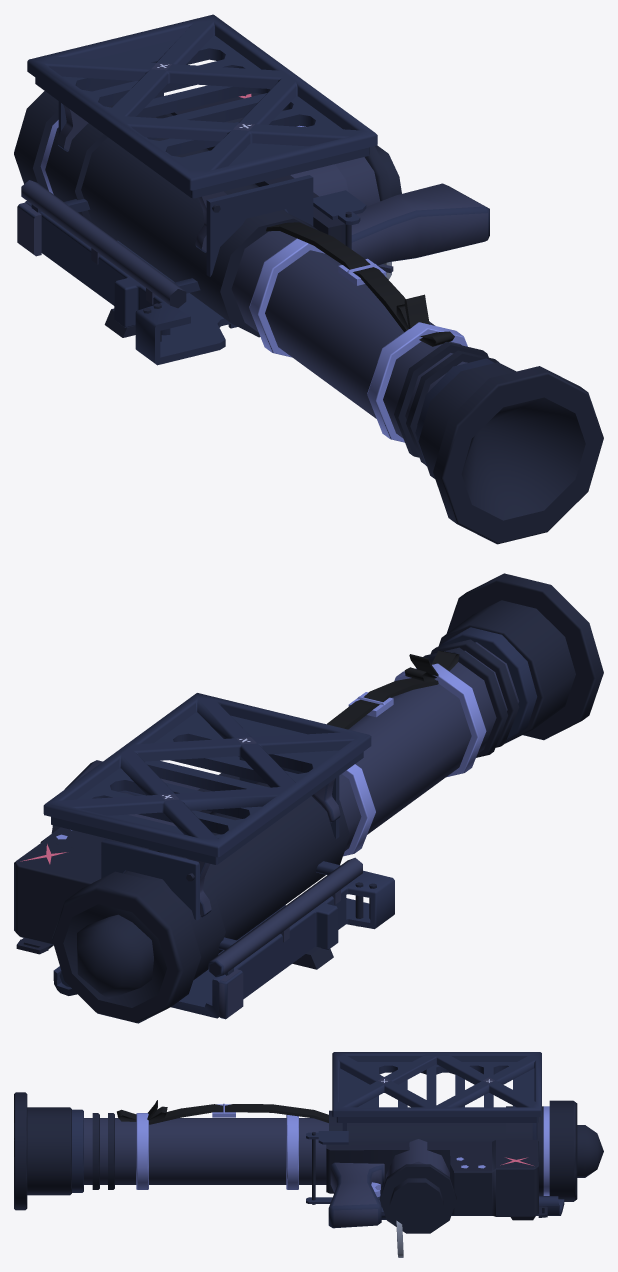
File: misaki.glb
3 renders of one model, top to bottom at view 1: azimuth 30°, elevation 25°; view 2: azimuth 150°, elevation 25°; view 3: azimuth 270°, elevation 25°, orthographic. The views are drawn at different scales.
Parts seen in each view (by area): view 1: Misaki_Original_Weapon; view 2: Misaki_Original_Weapon; view 3: Misaki_Original_Weapon.
Boxes of the visible parts, x1,y1,x2,y2 form: Misaki_Original_Weapon: (14, 14, 603, 544); Misaki_Original_Weapon: (14, 573, 603, 1023); Misaki_Original_Weapon: (14, 1052, 603, 1257).
Bounding box in the file's own units: 0.3035 × 0.1794 × 0.7381.
1 material, 1 textured.
